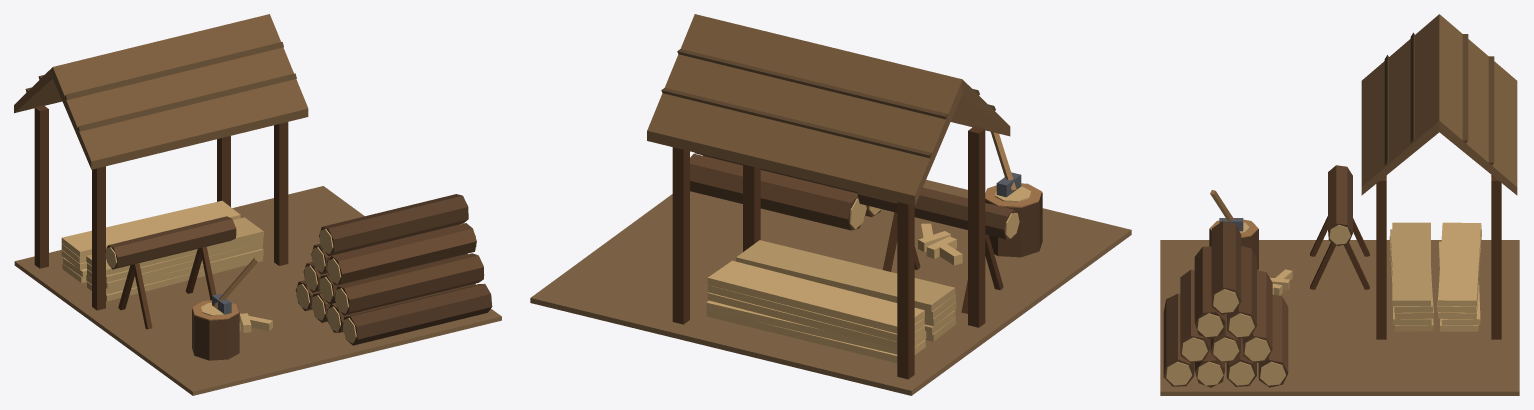
Rendered from lumber_camp.glb.
3 renders of one model, left to right at view 1: azimuth 30°, elevation 25°; view 2: azimuth 150°, elevation 25°; view 3: azimuth 270°, elevation 25°, orthographic. The views are drawn at different scales.
Visible parts, largest first — view 1: lumber_camp; view 2: lumber_camp; view 3: lumber_camp.
Boxes of the visible parts, left/top/right/bottom form: lumber_camp: left=14, top=14, right=501, bottom=395; lumber_camp: left=530, top=14, right=1131, bottom=395; lumber_camp: left=1160, top=14, right=1519, bottom=395.
Bounding box in the file's own units: 3.92 × 2.75 × 3.9.
1 material, 1 textured.
